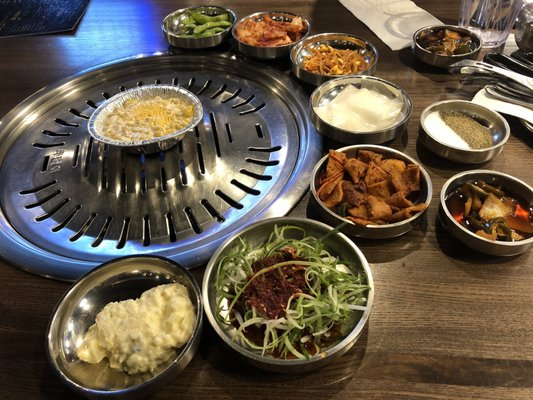sushi: (202, 218, 375, 371), (47, 257, 204, 400), (309, 144, 434, 239), (438, 169, 533, 258), (310, 75, 412, 147), (418, 99, 511, 165), (290, 33, 378, 88), (232, 10, 311, 61), (162, 4, 237, 50), (412, 25, 482, 69)
